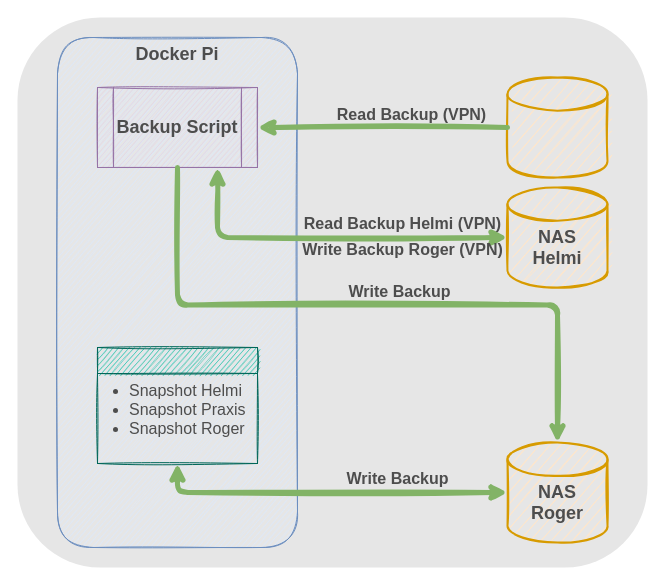
The diagram is 664 pixels wide and 584 high, and some of its shapes have lost their labels. Each missing label, with the box of its shape:
Kopia Docker: (96, 346, 258, 464)
NAS Praxis: (506, 76, 608, 178)
